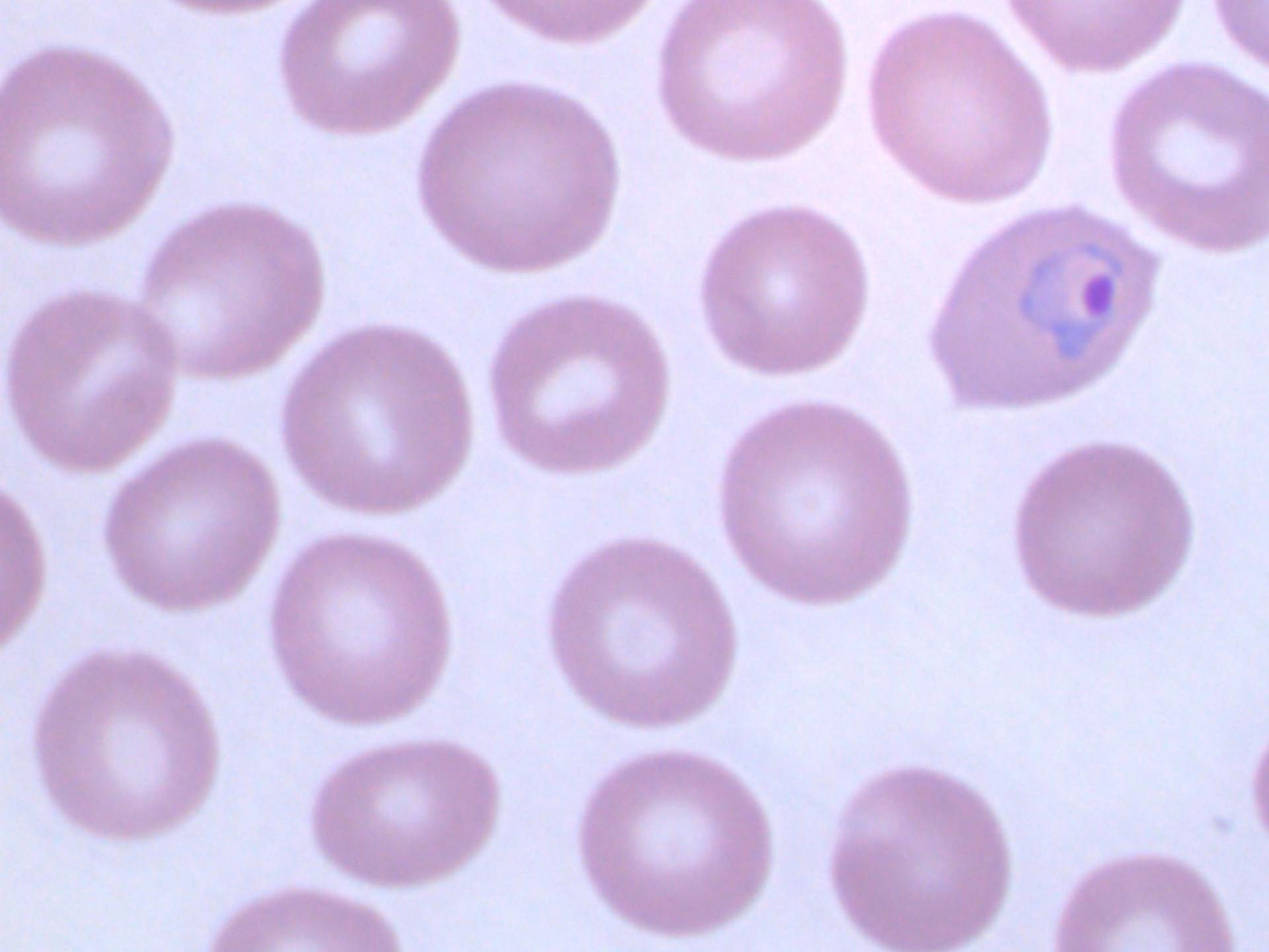Infected: (924, 205, 1156, 415)
Uninfected: (420, 80, 617, 275), (724, 405, 910, 603), (281, 326, 471, 518), (550, 537, 736, 730), (33, 649, 220, 840), (0, 45, 175, 243), (869, 14, 1048, 205), (583, 752, 771, 932), (276, 535, 450, 728), (836, 765, 1008, 952), (492, 296, 670, 470), (142, 207, 318, 380), (10, 289, 178, 469), (661, 0, 848, 161), (109, 440, 280, 613), (1018, 441, 1188, 614), (1115, 61, 1269, 250), (701, 207, 869, 371), (311, 743, 499, 886), (281, 0, 457, 137)
